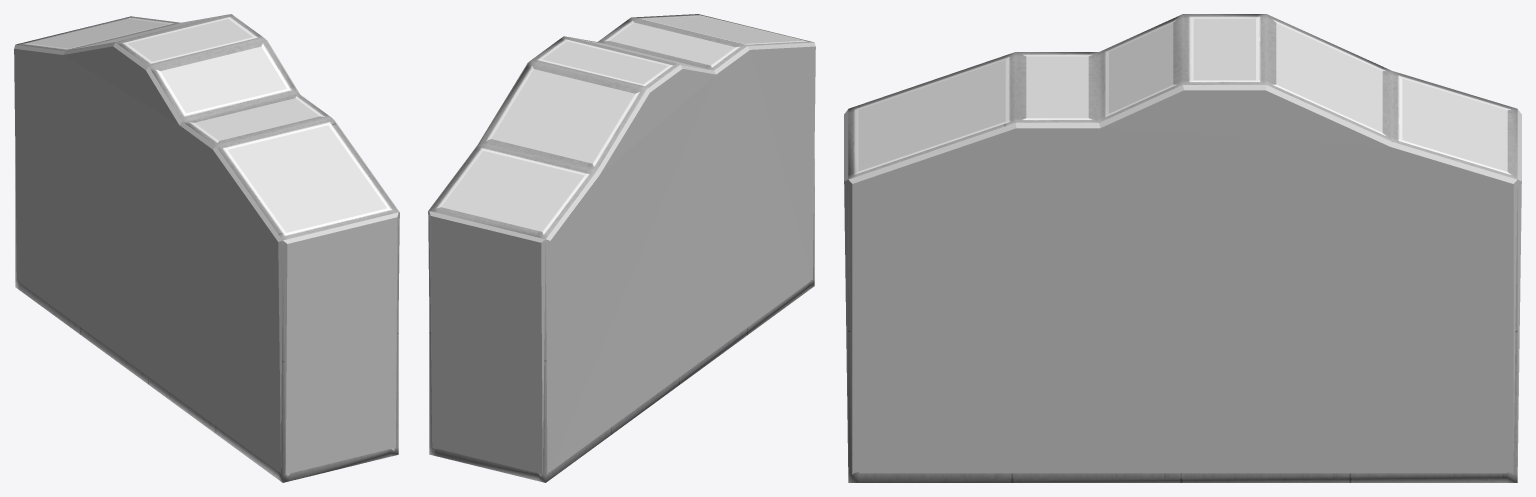
Rendered from s_gm_crawl_09.dae.
The picture shows the model from 3 angles, left to right: view 1: azimuth 30°, elevation 25°; view 2: azimuth 150°, elevation 25°; view 3: azimuth 270°, elevation 25°; orthographic projection. The views are drawn at different scales.
Visible parts, largest first — view 1: Colmesh_crawl_09-1, crawl_09_a25, crawl_09_a100; view 2: Colmesh_crawl_09-1, crawl_09_a25, crawl_09_a100; view 3: Colmesh_crawl_09-1, crawl_09_a25, crawl_09_a100.
Boxes of the visible parts, x1,y1,x2,y2 form: Colmesh_crawl_09-1: (14, 39, 399, 474); crawl_09_a25: (27, 16, 386, 232); crawl_09_a100: (15, 14, 398, 482); Colmesh_crawl_09-1: (428, 42, 815, 475); crawl_09_a25: (441, 16, 801, 231); crawl_09_a100: (429, 14, 814, 482); Colmesh_crawl_09-1: (844, 85, 1521, 474); crawl_09_a25: (858, 18, 1507, 171); crawl_09_a100: (848, 14, 1517, 482).
Bounding box in the file's own units: 2.1 × 8.1 × 5.25.
